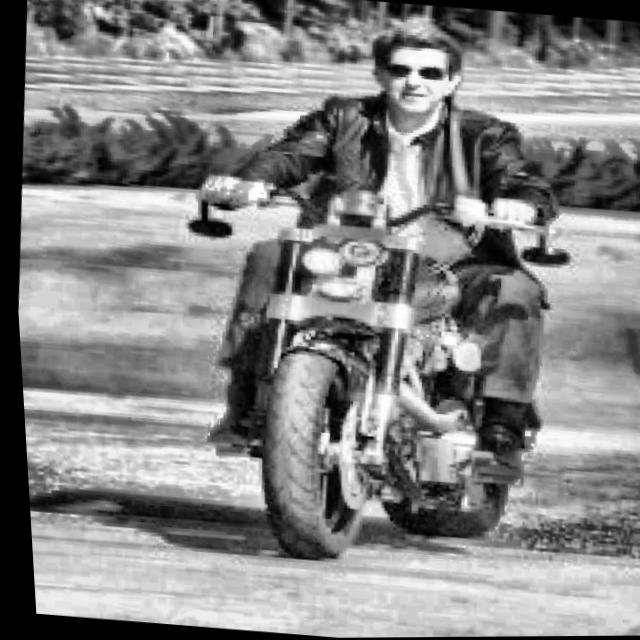motorcycle: (148, 154, 590, 579)
